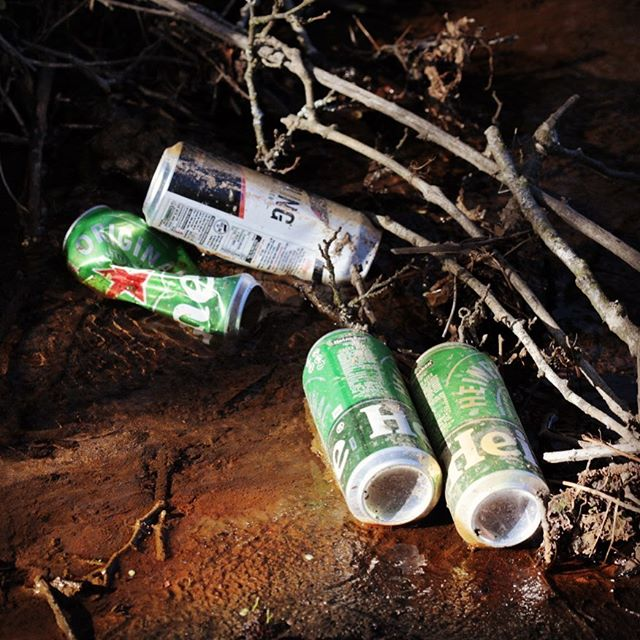trash: (47, 119, 560, 560)
vegetation: (167, 1, 626, 394)
